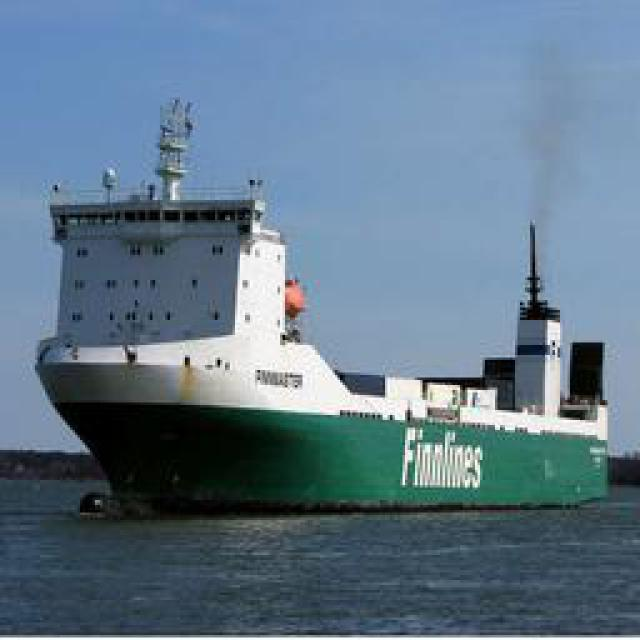Ship: (45, 121, 588, 504)
